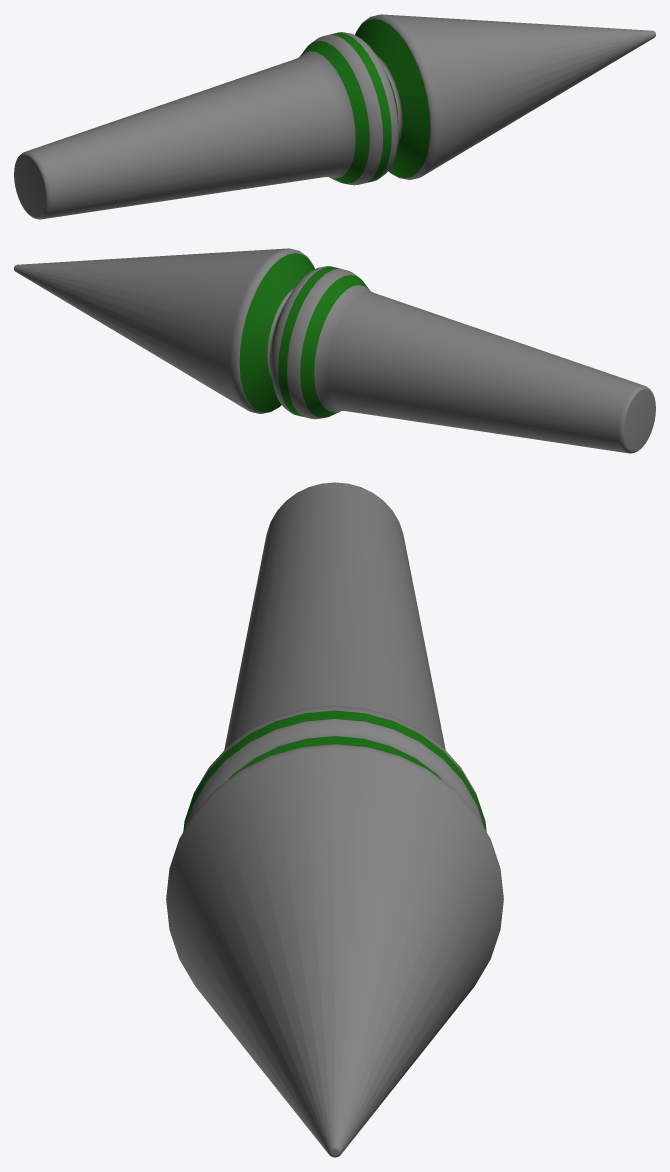
File: bazooka missile.fbx
The picture shows the model from 3 angles, top to bottom: view 1: azimuth 30°, elevation 25°; view 2: azimuth 150°, elevation 25°; view 3: azimuth 270°, elevation 25°; orthographic projection. The views are drawn at different scales.
Parts seen in each view (by area): view 1: Cylinder.001; view 2: Cylinder.001; view 3: Cylinder.001.
Boxes of the visible parts, x1,y1,x2,y2 form: Cylinder.001: (14, 14, 655, 219); Cylinder.001: (14, 248, 655, 453); Cylinder.001: (166, 482, 503, 1157).
Size of the model in its own units: 61.84 by 14.47 by 14.47.
